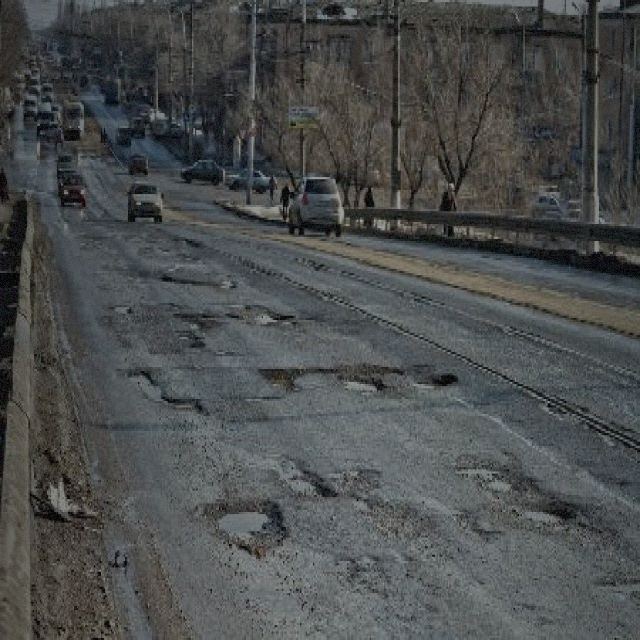pothole: (454, 458, 579, 522), (199, 495, 287, 557), (122, 365, 208, 416), (285, 465, 337, 501), (248, 300, 302, 330), (327, 358, 403, 376), (256, 362, 300, 392), (334, 371, 386, 393), (173, 307, 214, 333), (427, 367, 458, 388), (110, 298, 132, 314), (218, 275, 238, 290)
